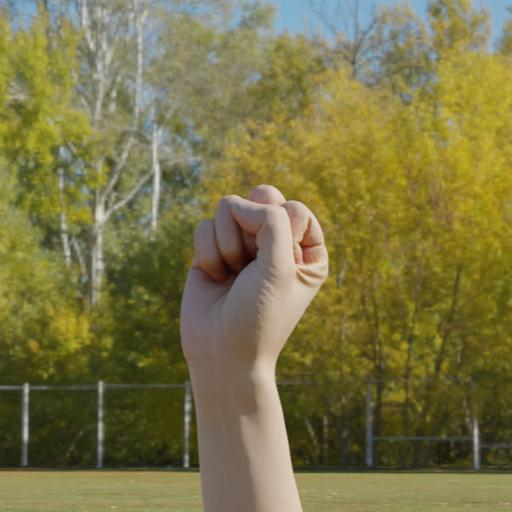S: (173, 177, 339, 385)
